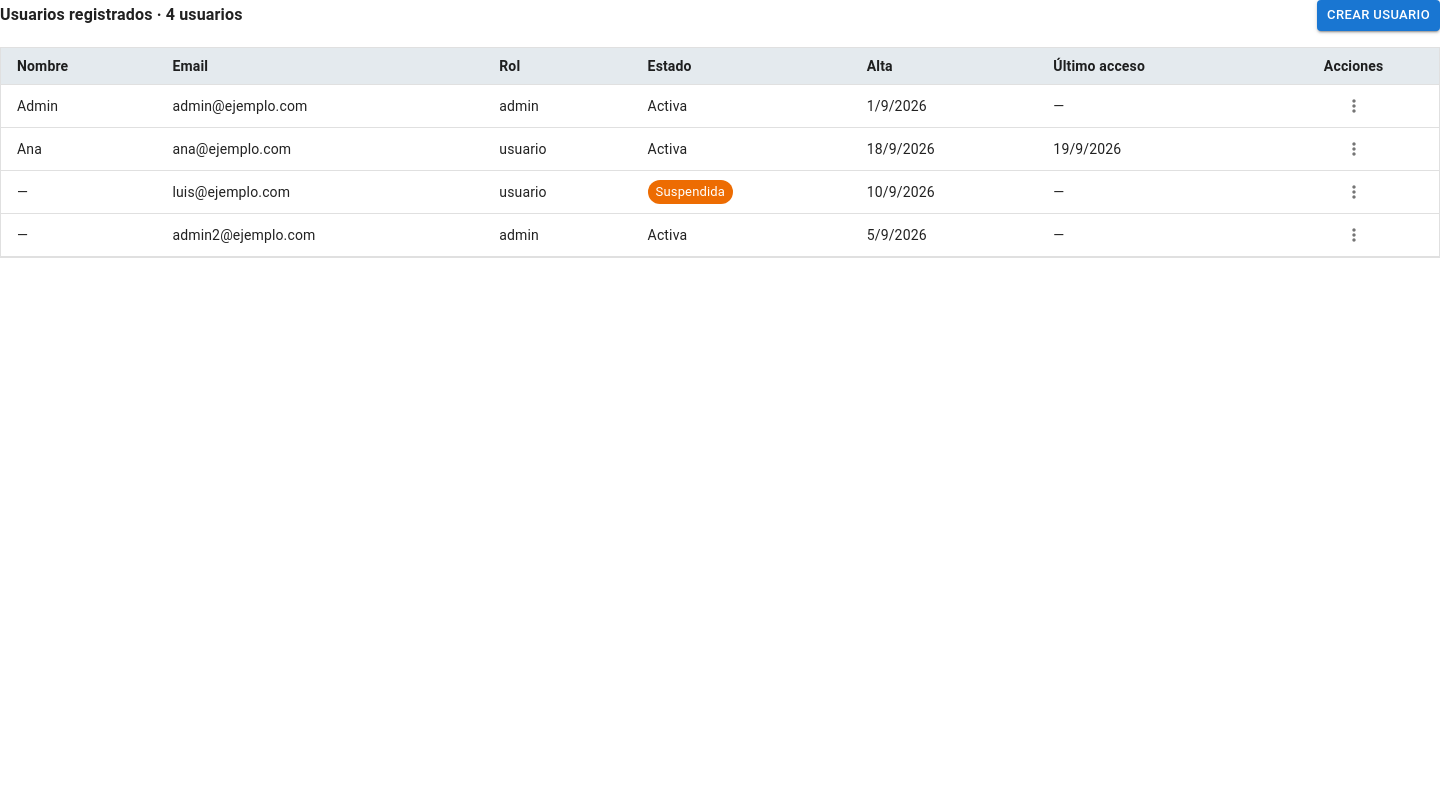
AdminUsers (ADM-03) › crea un usuario y muestra su contraseña temporal una sola vez
Expected: the text "ana@ejemplo.com" is shown, [156,127,483,170]
Click the button "Crear usuario" at {"x": 1379, "y": 15}, box [1317,0,1439,31]
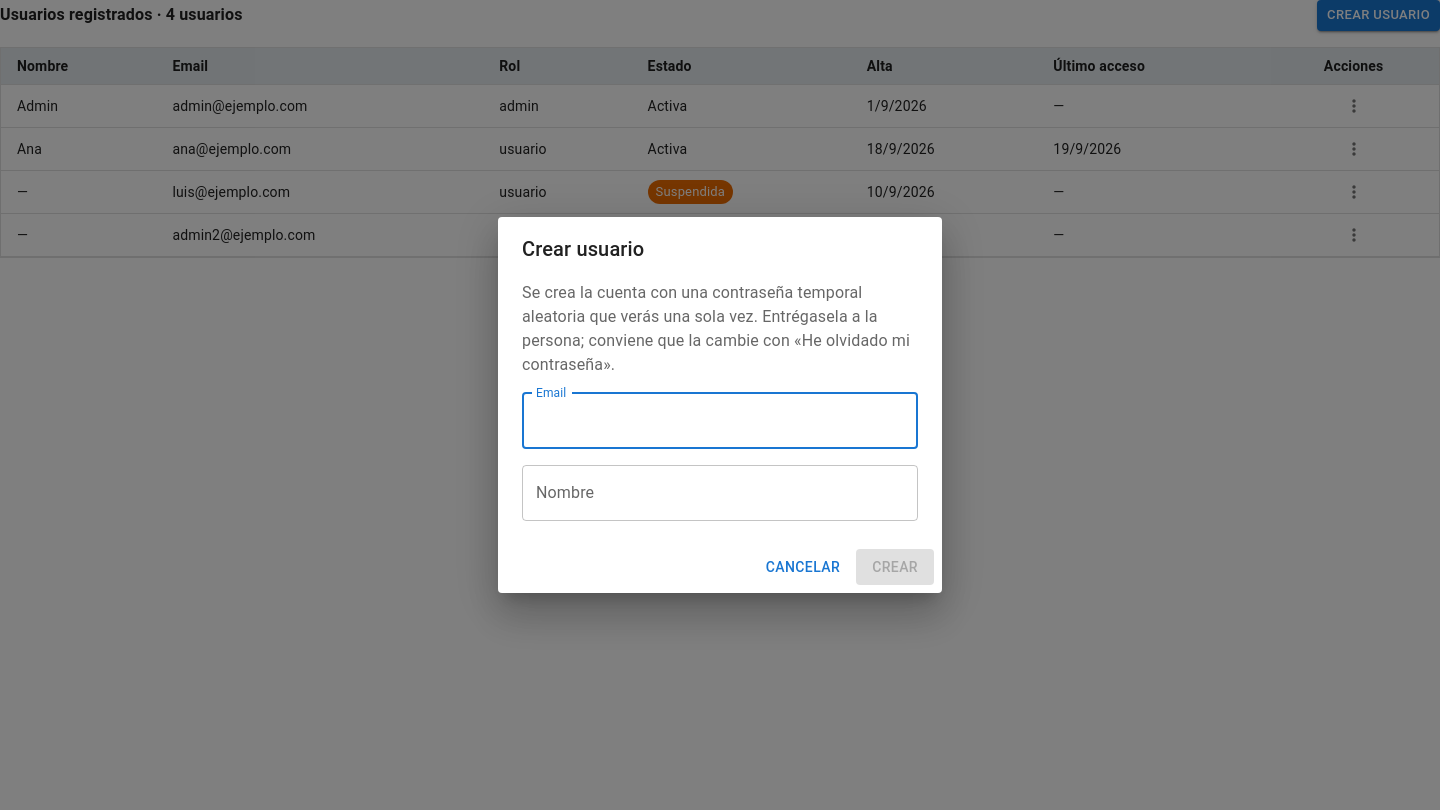
Type "nuria@ejemplo.com" into the field labelled "Email" at {"x": 720, "y": 421}, box [522,393,918,449]
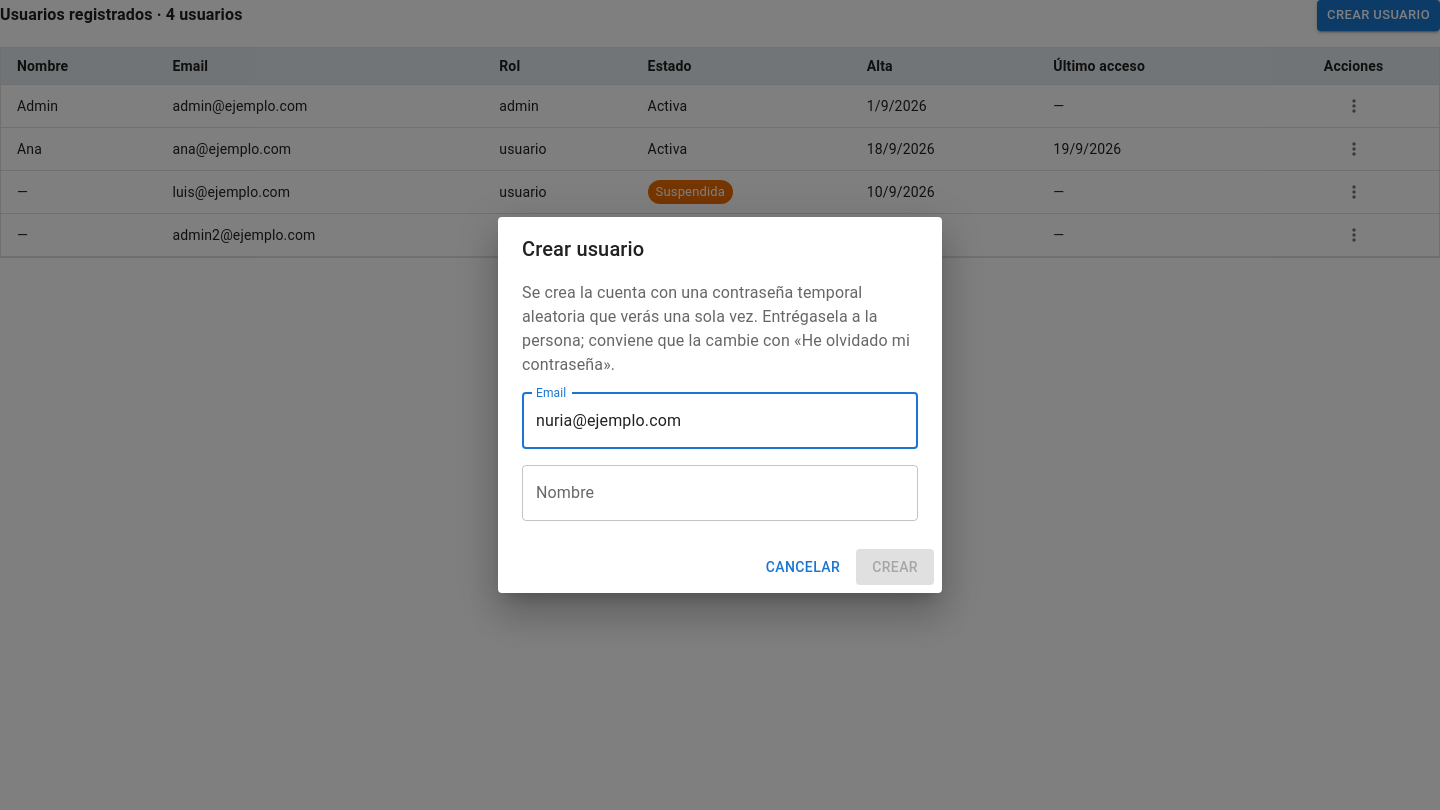
Type "Nuria" into the field labelled "Nombre" at {"x": 720, "y": 493}, box [522,465,918,521]
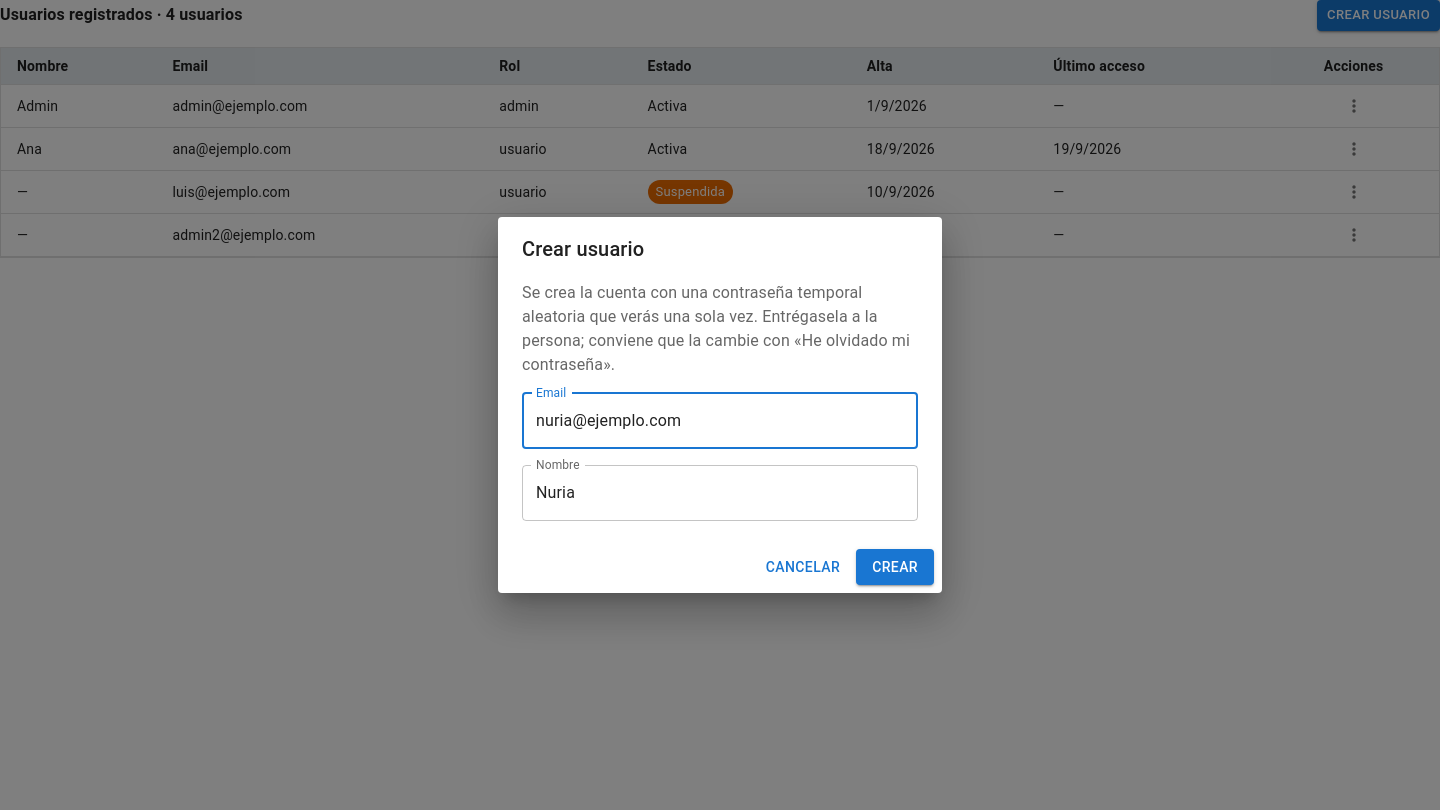
Click the button "Crear" at {"x": 895, "y": 567}, box [856,549,934,585]
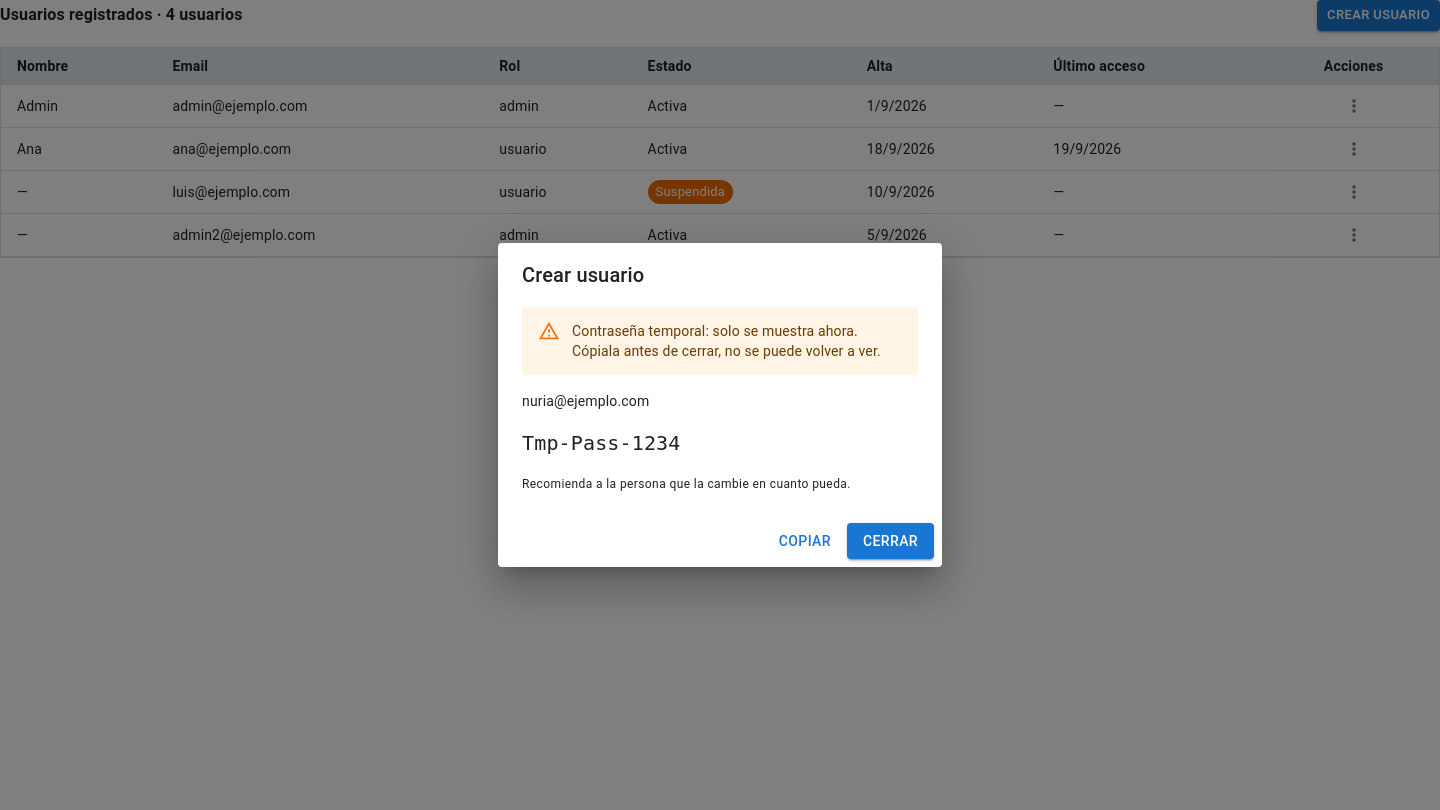
Expected: the text "Tmp-Pass-1234" is shown, [522,431,680,455]
Expected: the text "solo se muestra ahora" is shown, [572,323,881,359]
Click the button "Cerrar" at {"x": 890, "y": 541}, box [847,523,934,559]
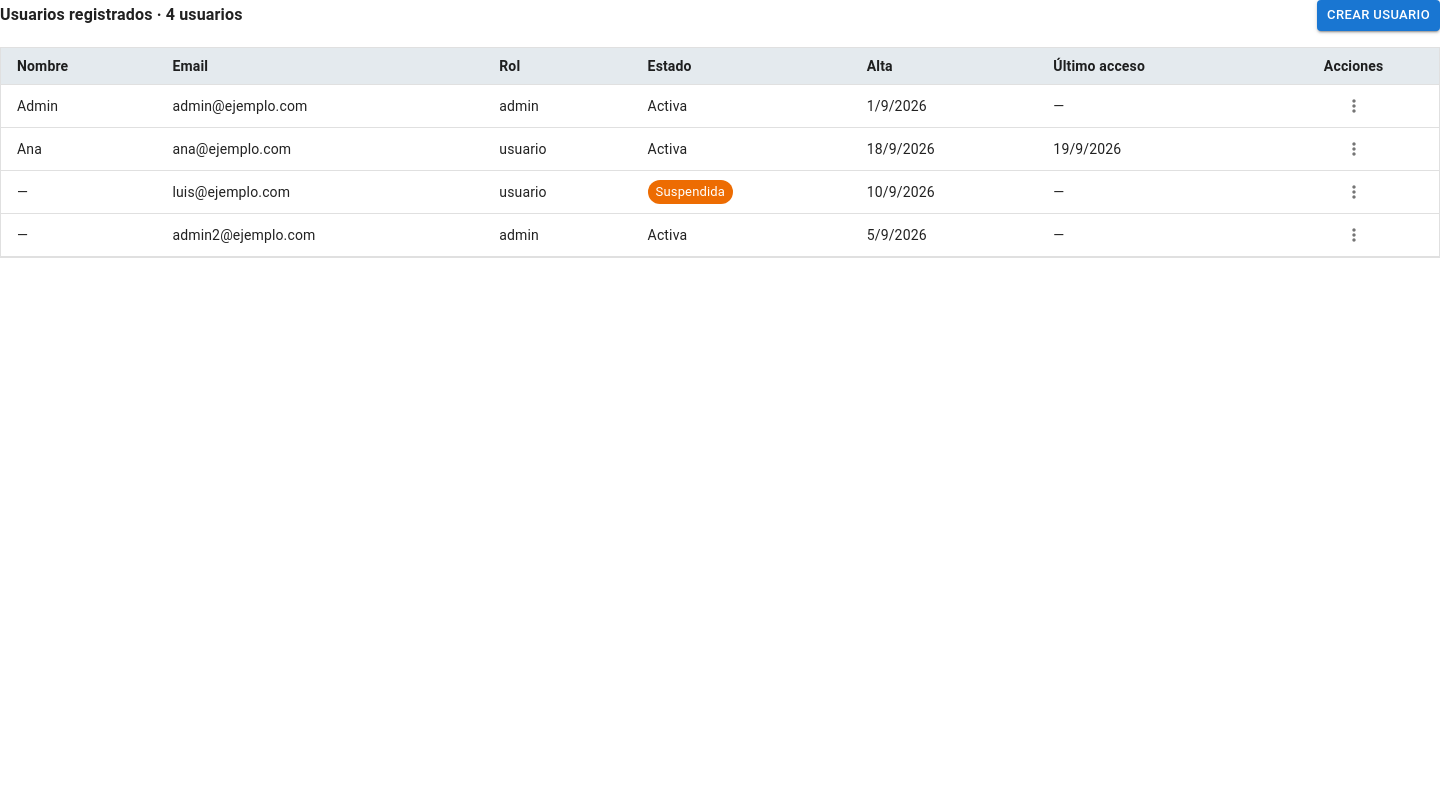
Expected: the text "Tmp-Pass-1234" is gone
